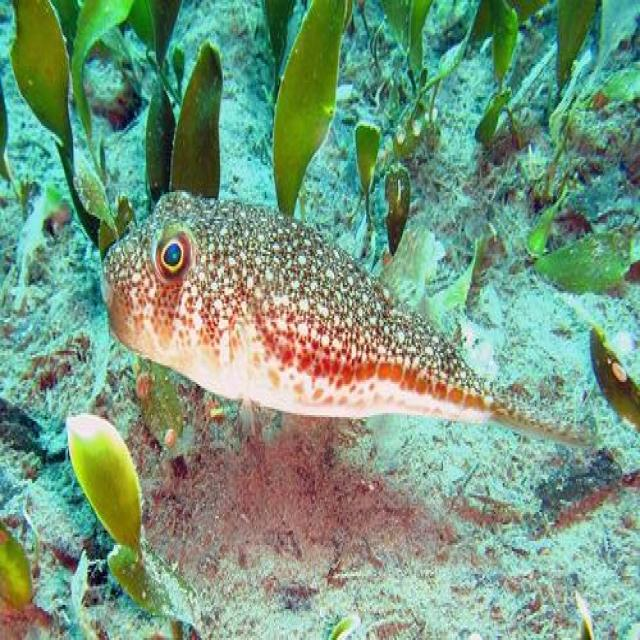Balik: (104, 192, 582, 443)
